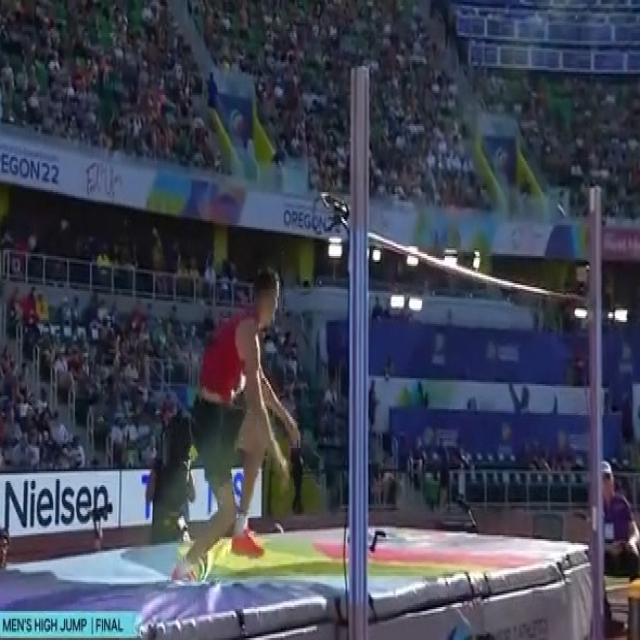land: (171, 255, 301, 585)
